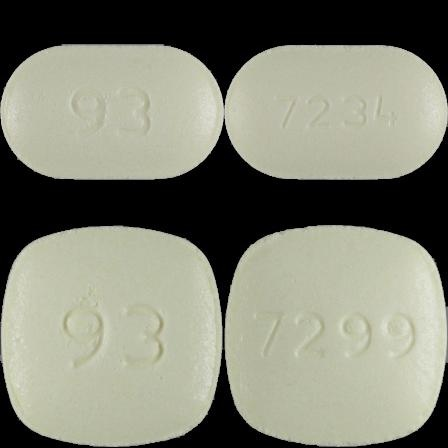0615-6568: (0, 0, 224, 224)
